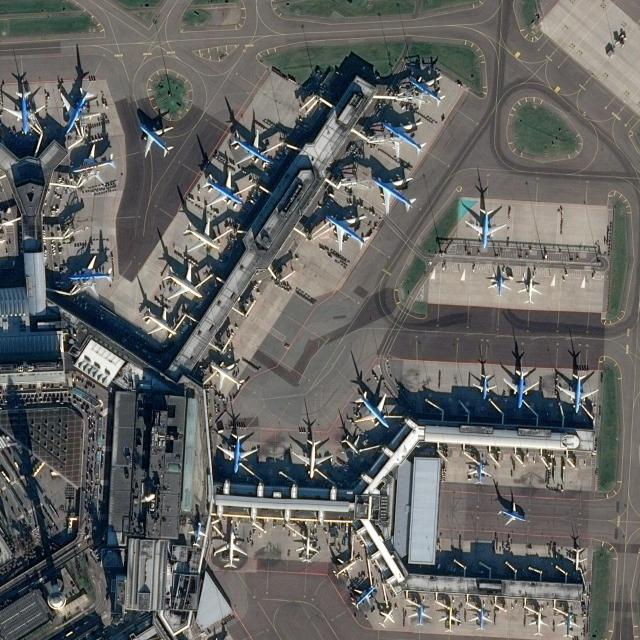aircraft: (59, 87, 101, 134), (68, 254, 114, 296), (3, 89, 45, 134), (71, 144, 117, 184), (380, 120, 426, 160), (370, 174, 416, 213), (324, 213, 370, 251), (464, 207, 506, 248), (556, 372, 599, 412), (216, 432, 258, 472), (229, 128, 273, 166), (292, 438, 332, 478), (161, 262, 203, 300), (201, 170, 243, 207), (353, 389, 390, 428), (181, 217, 221, 253), (502, 368, 538, 408), (138, 122, 175, 158), (214, 530, 248, 568), (408, 74, 445, 108), (141, 306, 177, 336), (209, 361, 245, 390), (472, 372, 498, 400), (518, 276, 542, 305), (497, 501, 526, 525), (351, 583, 376, 610), (438, 606, 462, 633), (295, 536, 319, 562), (556, 612, 580, 638), (487, 272, 511, 297), (407, 603, 432, 627), (467, 460, 491, 485), (332, 556, 358, 579), (468, 607, 492, 631), (528, 610, 548, 636), (339, 434, 362, 456), (566, 546, 587, 570), (187, 522, 207, 546), (378, 607, 395, 628)
